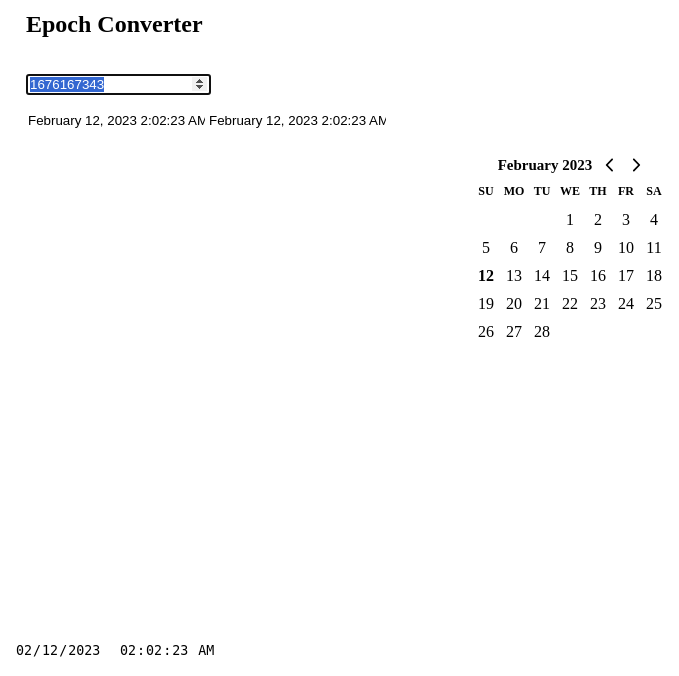
Dashboard › changes epoch time when time input is changed
The image size is (679, 676).
Replace the text in the number field with test id "epochInput" with "1675639572" at (118, 84), box [26,74,211,95]
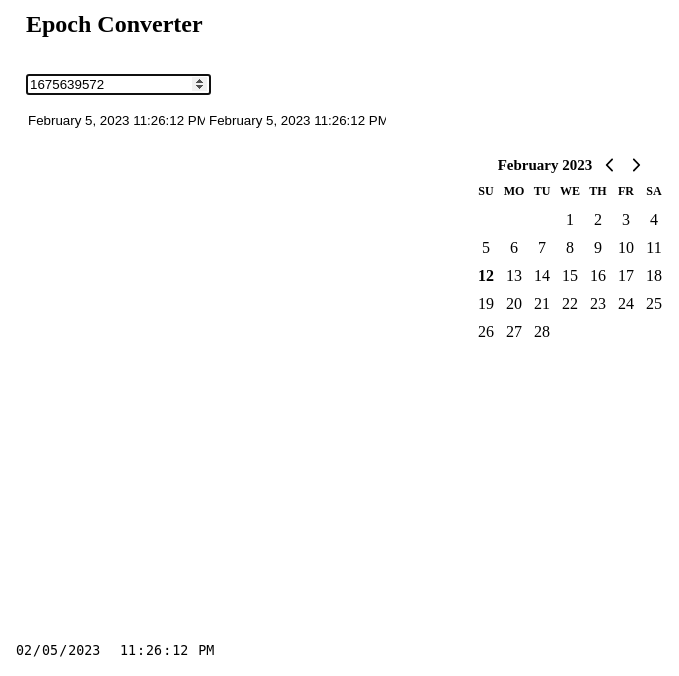
Replace the text in the time field with test id "timeInput" with "18:35:10" at (167, 650), box [118,642,216,659]
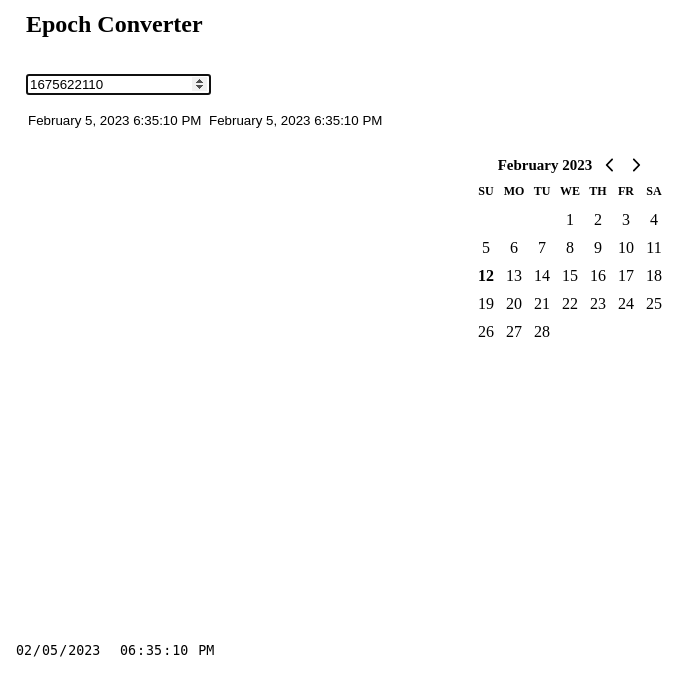
Expected: the number field with test id "epochInput" holds "1675622110", [26,74,211,95]
